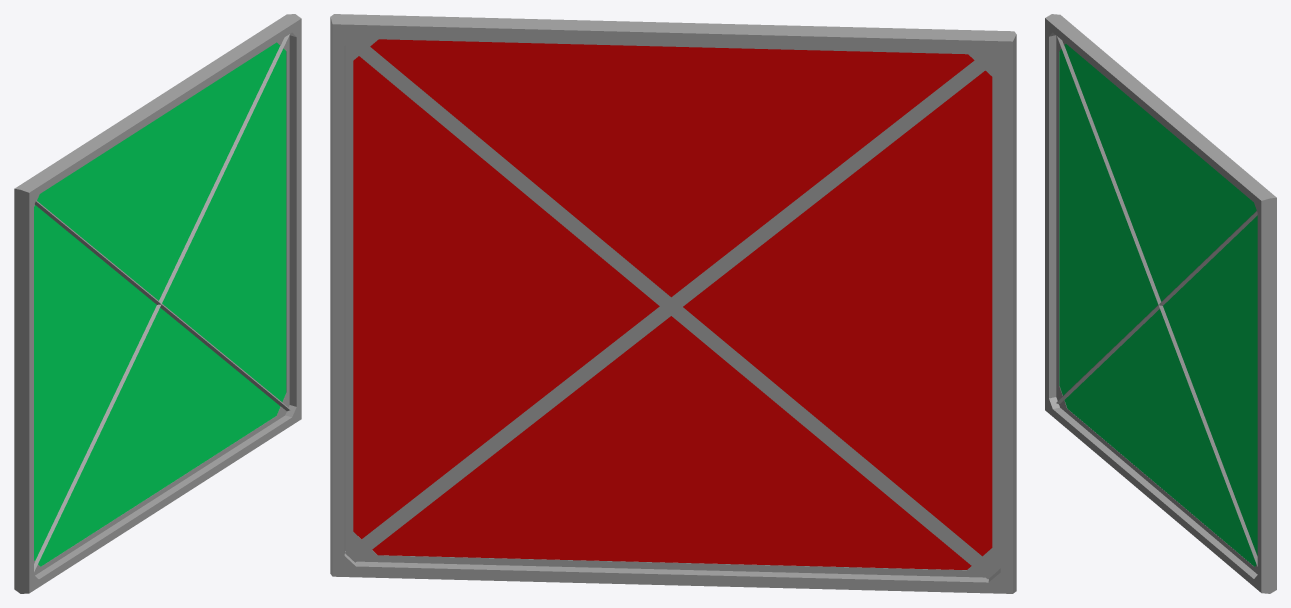
The model's file is Half slope window.fbx.
3 renders of one model, left to right at view 1: azimuth 30°, elevation 25°; view 2: azimuth 150°, elevation 25°; view 3: azimuth 270°, elevation 25°, orthographic. The views are drawn at different scales.
Visible parts, largest first — view 1: pCube1, Frame, Construction_model, Bezzel; view 2: pCube1, Frame, Construction_model, Bezzel; view 3: pCube1, Frame, Construction_model, Bezzel.
Boxes of the visible parts, bbox=[...] form: pCube1: bbox=[34, 42, 286, 566]; Frame: bbox=[14, 14, 301, 593]; Construction_model: bbox=[34, 34, 289, 571]; Bezzel: bbox=[34, 35, 289, 575]; pCube1: bbox=[353, 39, 992, 569]; Frame: bbox=[330, 14, 1016, 593]; Construction_model: bbox=[345, 36, 998, 579]; Bezzel: bbox=[345, 36, 1000, 577]; pCube1: bbox=[1059, 44, 1257, 566]; Frame: bbox=[1045, 14, 1276, 593]; Construction_model: bbox=[1056, 36, 1257, 566]; Bezzel: bbox=[1056, 36, 1257, 573].
Size of the model in its own units: 2.54 by 2.52 by 1.34.
